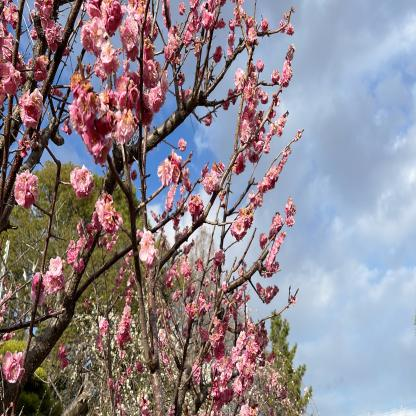Ume: (0, 0, 320, 416)
